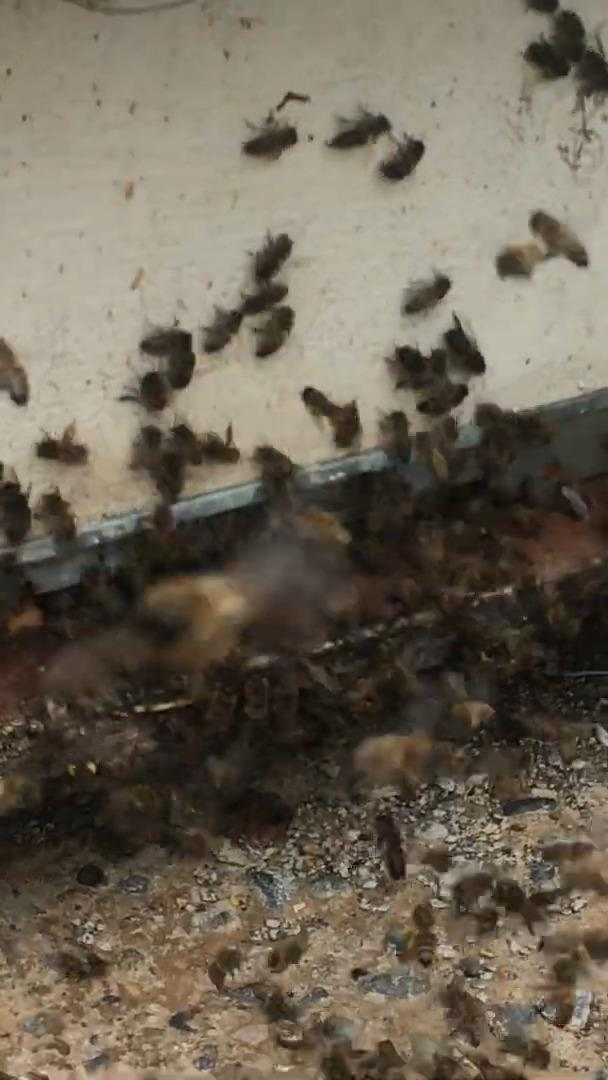worker-bee: (352, 733, 465, 797), (474, 402, 551, 478), (541, 945, 589, 1027), (300, 386, 361, 448), (529, 210, 586, 266), (241, 112, 298, 160), (387, 344, 445, 391), (326, 108, 391, 149), (443, 313, 485, 376), (35, 421, 88, 465), (34, 487, 75, 543), (416, 375, 468, 418), (118, 370, 171, 412), (378, 134, 425, 181), (149, 444, 185, 504), (401, 272, 451, 315), (254, 305, 294, 358), (375, 812, 406, 879), (0, 479, 31, 545), (575, 36, 607, 99), (405, 901, 436, 966), (202, 305, 242, 353), (253, 233, 292, 282), (253, 444, 296, 488), (524, 38, 569, 79), (552, 9, 585, 63), (241, 280, 287, 316), (140, 326, 192, 357), (207, 946, 241, 992), (199, 425, 240, 463), (380, 410, 410, 461), (168, 423, 201, 464), (167, 348, 195, 389)
